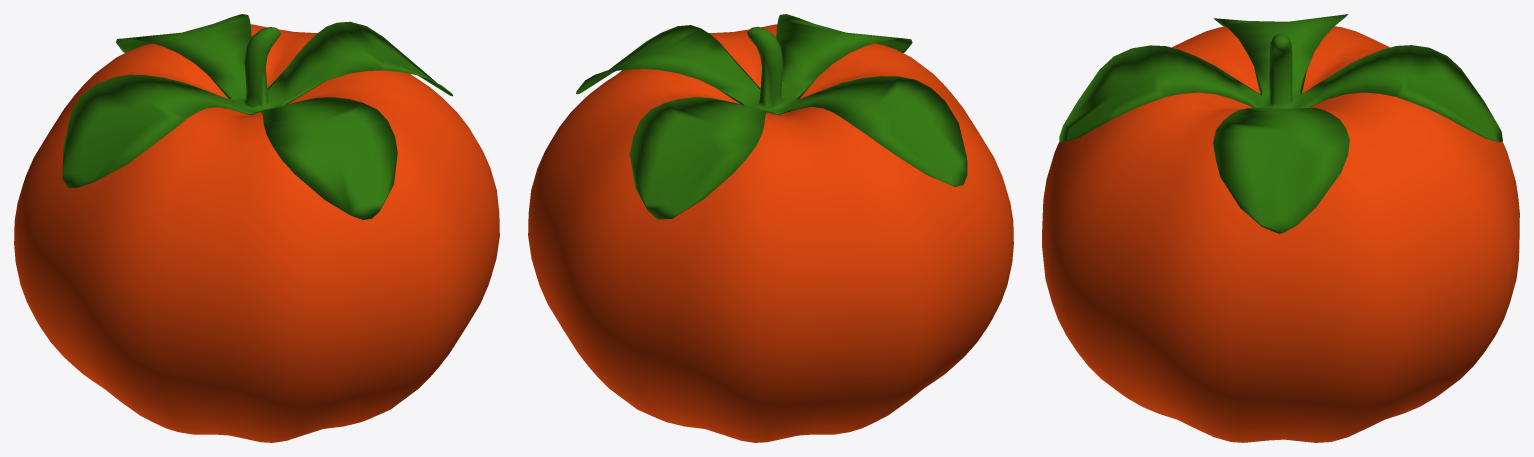
File: Tomato_Projectil.fbx
3 views of the same model, side by side, from view 1: azimuth 30°, elevation 25°; view 2: azimuth 150°, elevation 25°; view 3: azimuth 270°, elevation 25° (orthographic).
Parts seen in each view (by area): view 1: Tomato; view 2: Tomato; view 3: Tomato.
Boxes of the visible parts, box(x1,y1,x2,y2) form: Tomato: box(14, 14, 499, 442); Tomato: box(528, 14, 1013, 442); Tomato: box(1042, 14, 1519, 442).
Bounding box in the file's own units: 14.05 × 12.18 × 14.05.
